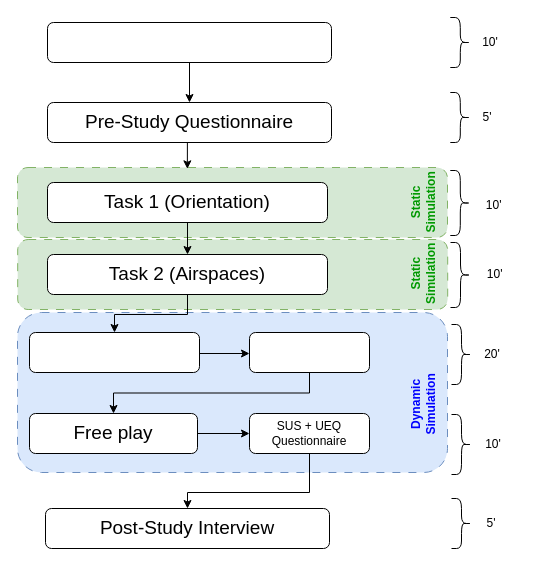
The diagram is 541 pixels wide and 566 high, and some of its shapes have lost their labels. The shapes that lost their labels are listed below. From the top down, each one's box as (x1, y1, x2, y2) in pixels, then its label:
(46, 22, 332, 62): Introduction + Consent
(28, 332, 200, 372): Task 3 (Approach)
(248, 332, 370, 372): SART + NASA TLX Questionnaire
